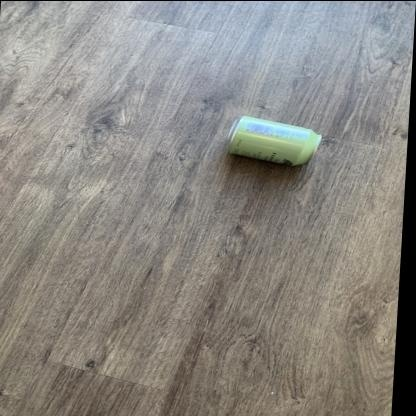trash: (228, 116, 320, 165)
